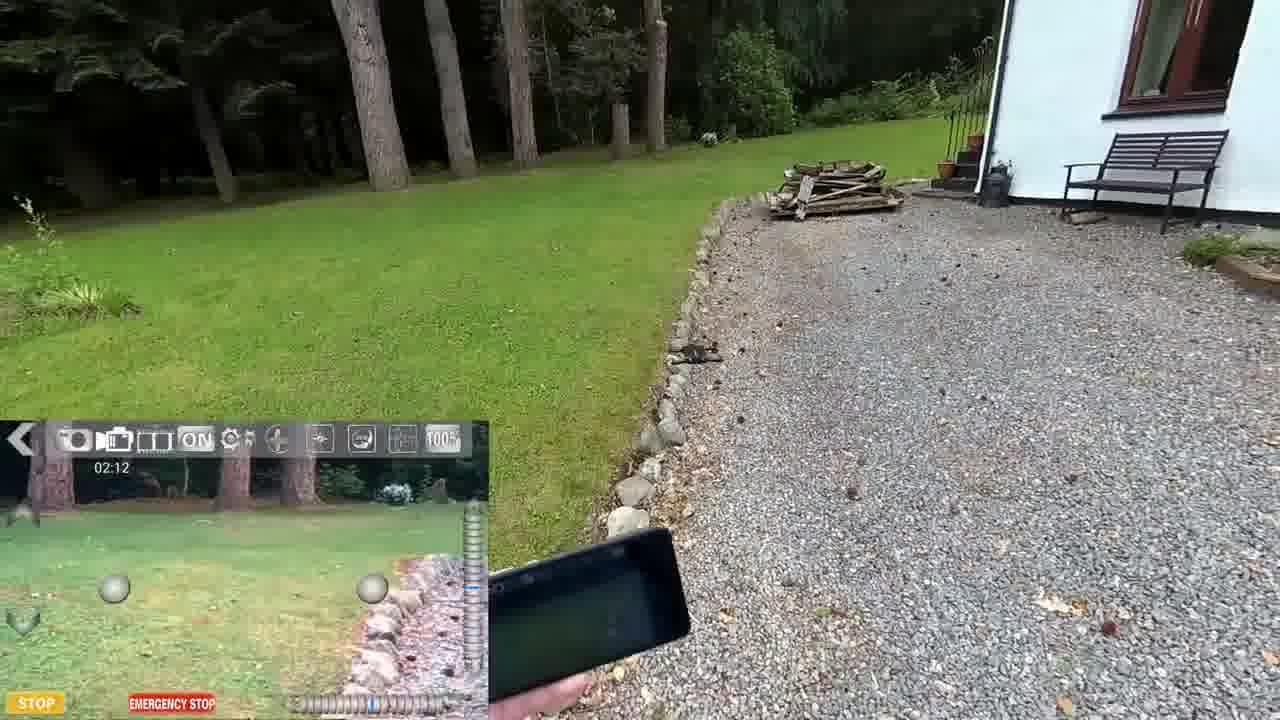drone: (662, 339, 731, 370)
